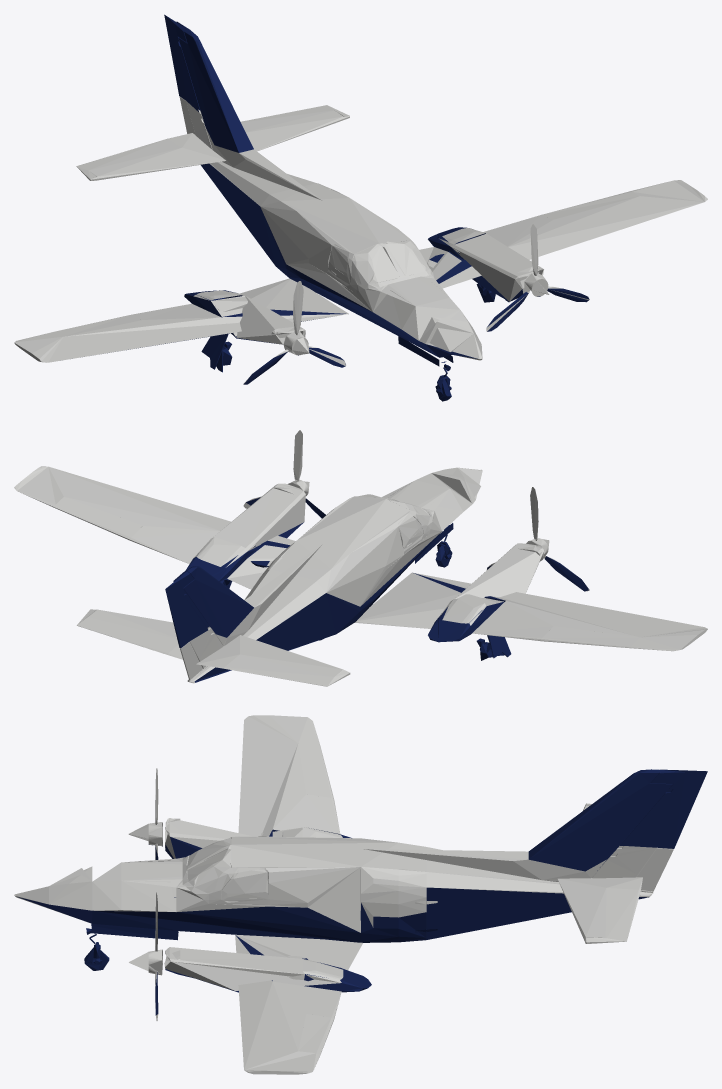
Rendered from cessna-402.livery-v1.lod1.glb.
3 renders of one model, top to bottom at view 1: azimuth 30°, elevation 25°; view 2: azimuth 150°, elevation 25°; view 3: azimuth 270°, elevation 25°, orthographic. The views are drawn at different scales.
Visible parts, largest first — view 1: Object_10; view 2: Object_10; view 3: Object_10.
Part boxes in pixels (x1,y1,x2,y2): Object_10: (14,14,707,401); Object_10: (14,430,707,686); Object_10: (14,715,707,1074).
Bounding box in the file's own units: 12.66 × 3.32 × 10.43.
